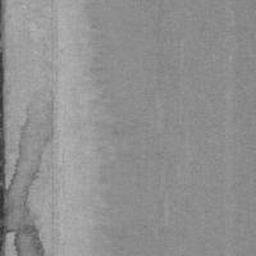Water spot: (3, 86, 55, 256)
